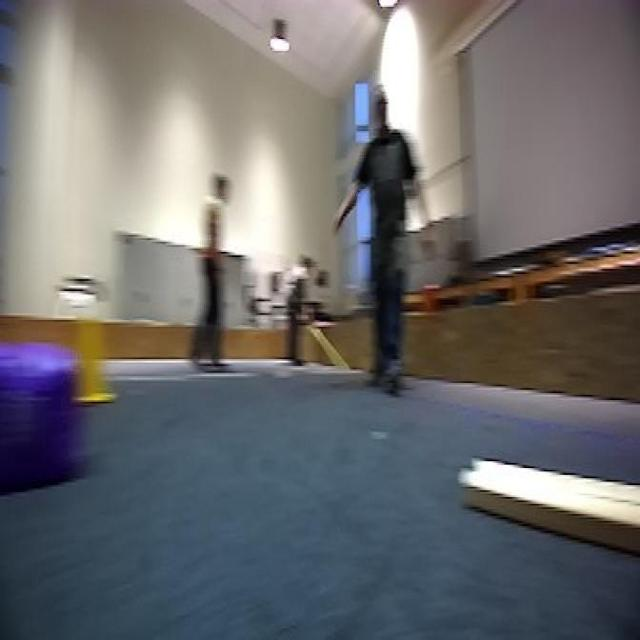frc_cone: (64, 306, 106, 412)
frc_cube: (0, 342, 79, 487)
